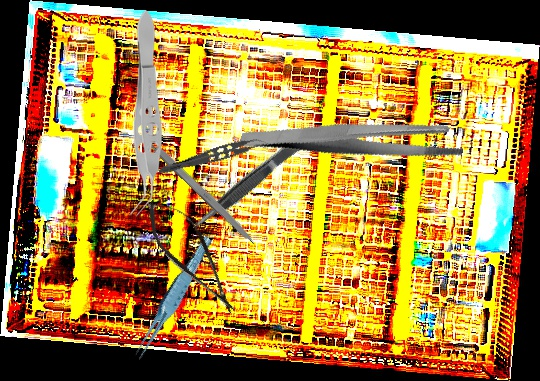Dressing Forceps: (238, 71, 469, 207)
Micro Scissor: (135, 188, 250, 324)
Scalpel Handle: (138, 129, 259, 247)
Tissue Forceps: (186, 127, 317, 235), (124, 235, 221, 361), (129, 10, 162, 218), (156, 132, 269, 184)
